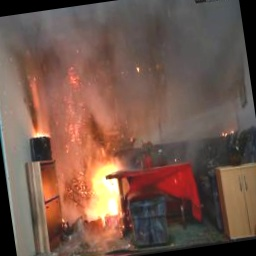fire: (74, 149, 137, 232)
